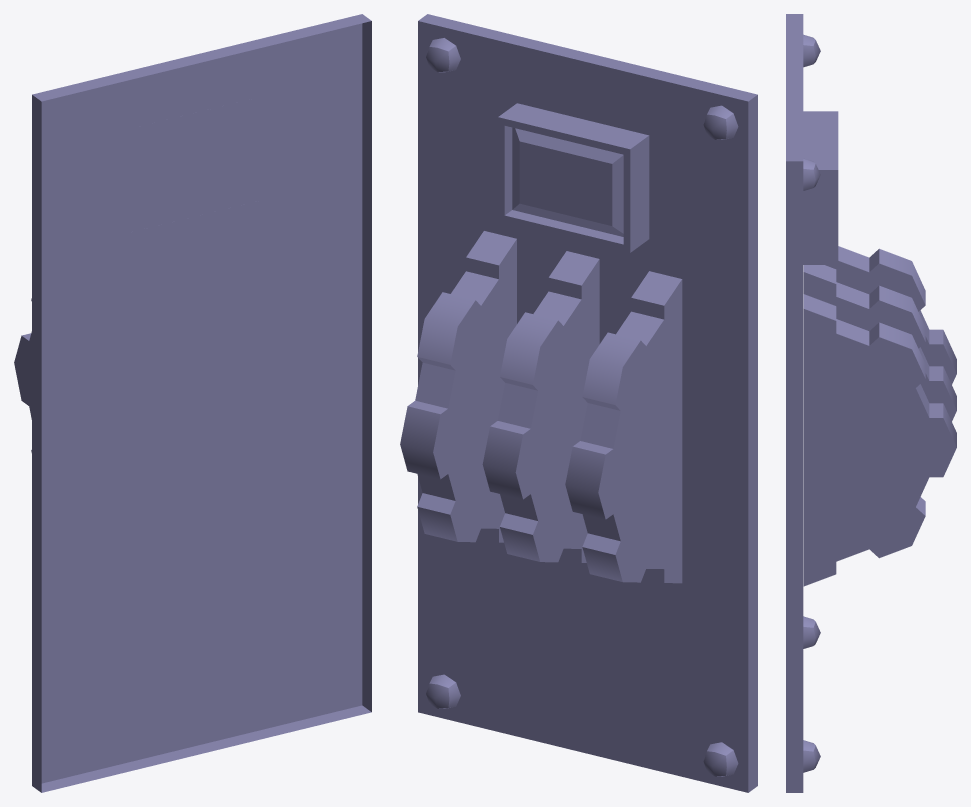
File: switch_mall_base.FBX
3 views of the same model, side by side, from view 1: azimuth 30°, elevation 25°; view 2: azimuth 150°, elevation 25°; view 3: azimuth 270°, elevation 25° (orthographic). The views are drawn at different scales.
Visible parts, largest first — view 1: switch_mall_base; view 2: switch_mall_base; view 3: switch_mall_base.
Part boxes in pixels (x1,y1,x2,y2): switch_mall_base: [14, 14, 371, 792]; switch_mall_base: [400, 14, 757, 792]; switch_mall_base: [786, 14, 956, 792].
Size of the model in its own units: 0.05 by 0.1 by 0.0245.
